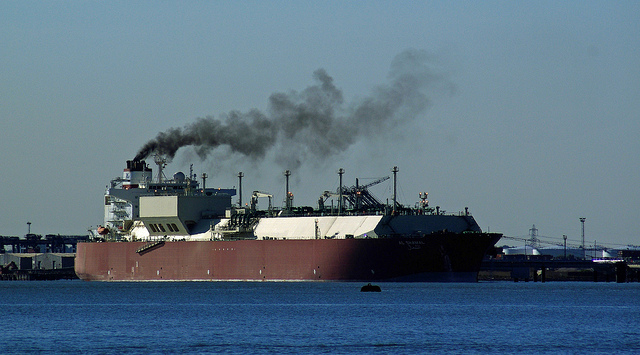tug_boat: (74, 158, 510, 281)
